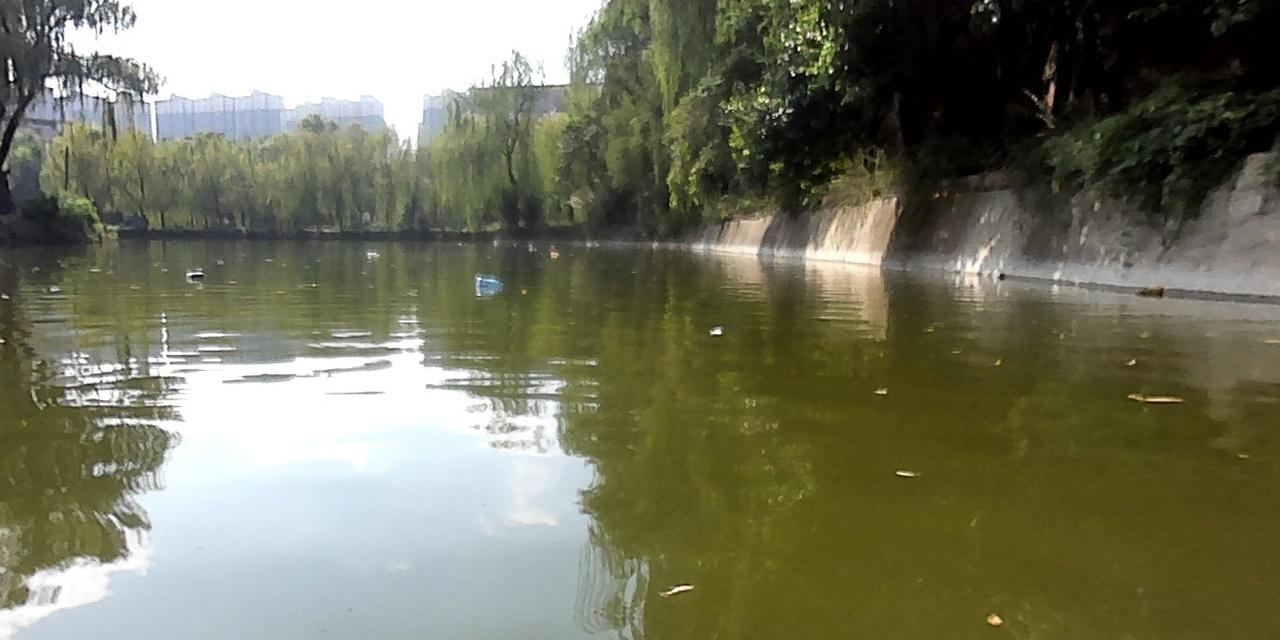bottle: (473, 273, 502, 289)
